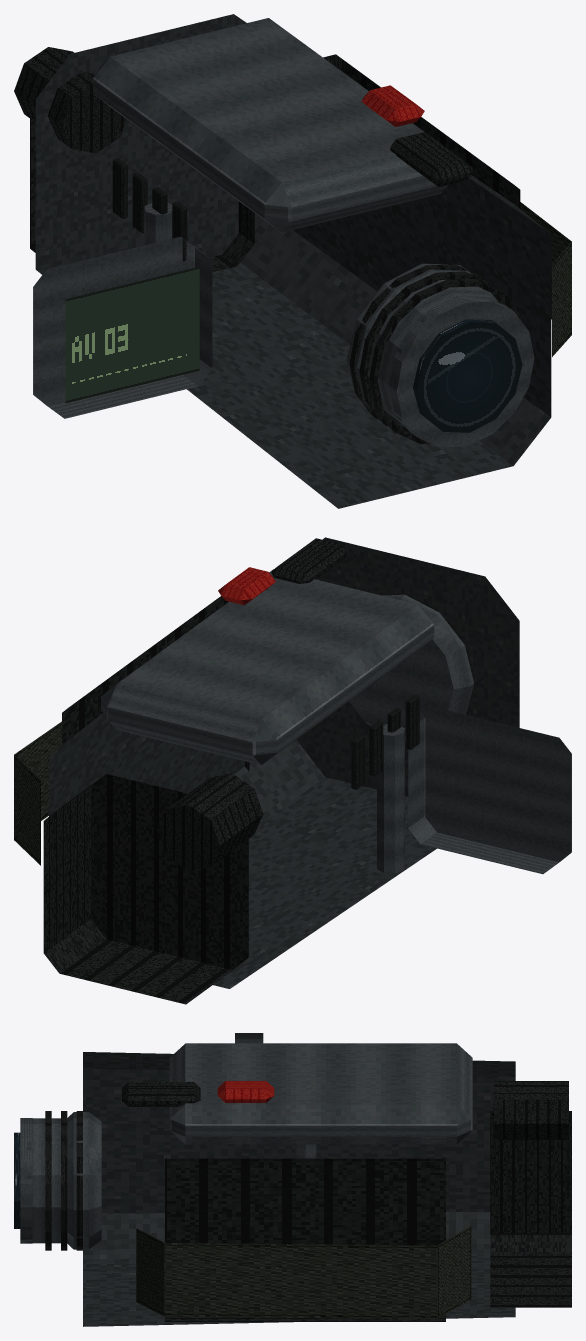
File: blender_video_camera_2.glb
3 views of the same model, one above another, from view 1: azimuth 30°, elevation 25°; view 2: azimuth 150°, elevation 25°; view 3: azimuth 270°, elevation 25° (orthographic). The views are drawn at different scales.
Parts seen in each view (by area): view 1: blender_video_camera_2; view 2: blender_video_camera_2; view 3: blender_video_camera_2.
Part boxes in pixels (left/top/right/bottom): blender_video_camera_2: left=14, top=14, right=571, bottom=508; blender_video_camera_2: left=14, top=537, right=571, bottom=1004; blender_video_camera_2: left=14, top=1033, right=571, bottom=1326.
Bounding box in the file's own units: 0.1407 × 0.0828 × 0.178.
7 materials, 7 textured.
